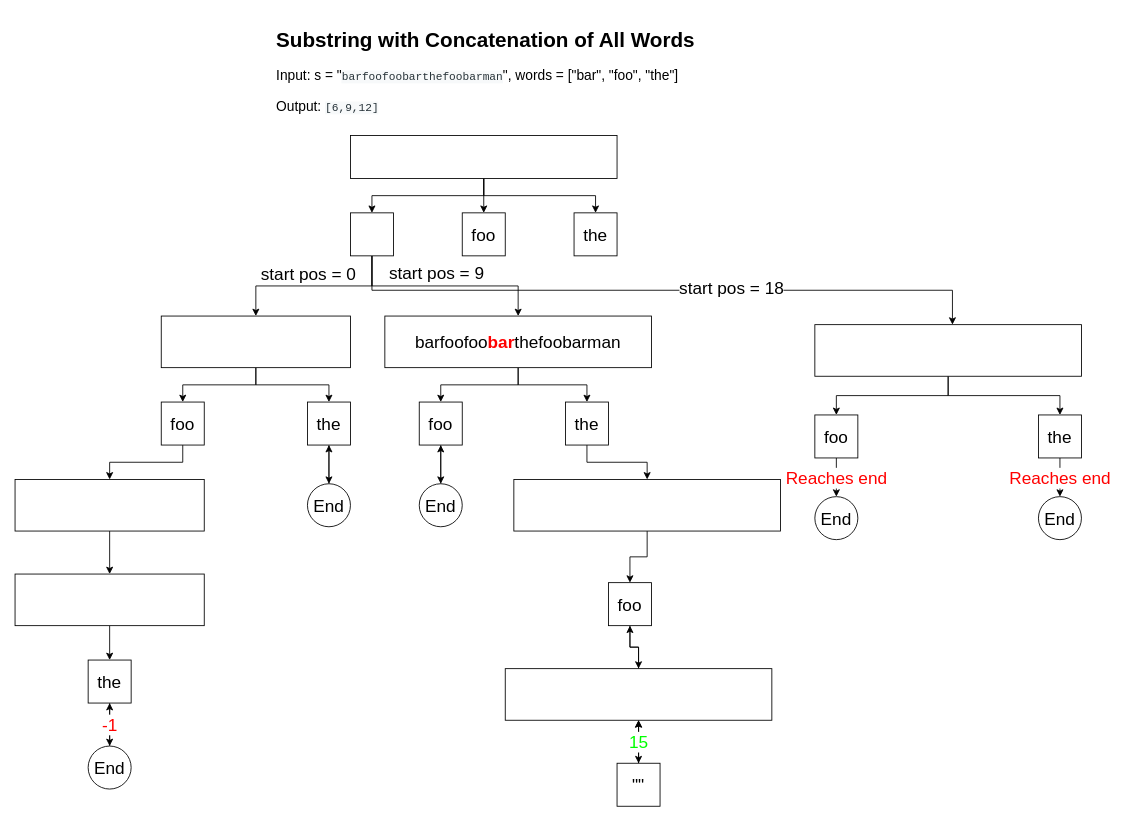
Some shapes in this 1126 by 821 pixel diagram are drawn without their labels. The shapes that lost their labels are listed below. From the top down, each one's centre as x and y in pixels, then its label:
At [483,156]: "barfoofoobarthefoobarman".
At [371,234]: "bar".
At [255,341]: "foofoobarthefoobarman".
At [947,350]: "barfoofoobarthefoo bar man".
At [109,505]: "foobarthefoobarman".
At [646,505]: "barfoofoo bar the foobarman".
At [109,599]: "barthefoobarman".
At [638,694]: "barfoofoo bar the foo barman".
